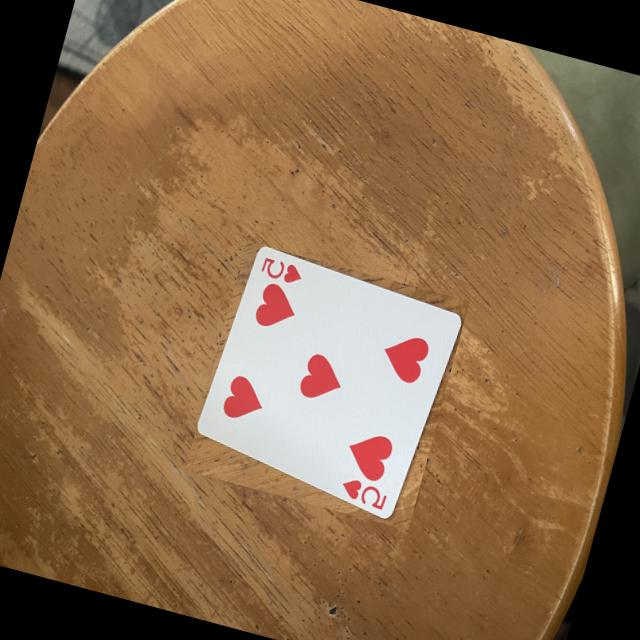5 of hearts: (196, 245, 465, 523)
